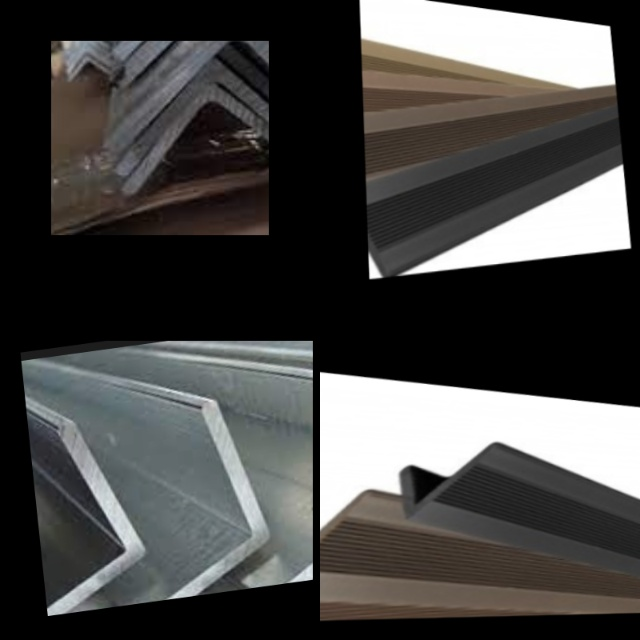Angle: (118, 403, 267, 604), (29, 423, 138, 616), (115, 41, 269, 142), (126, 71, 269, 165), (129, 93, 269, 187), (253, 390, 313, 585), (380, 436, 493, 519), (129, 41, 269, 73), (320, 488, 364, 586), (366, 192, 389, 280), (123, 41, 269, 51), (70, 59, 109, 81), (69, 50, 107, 72)
